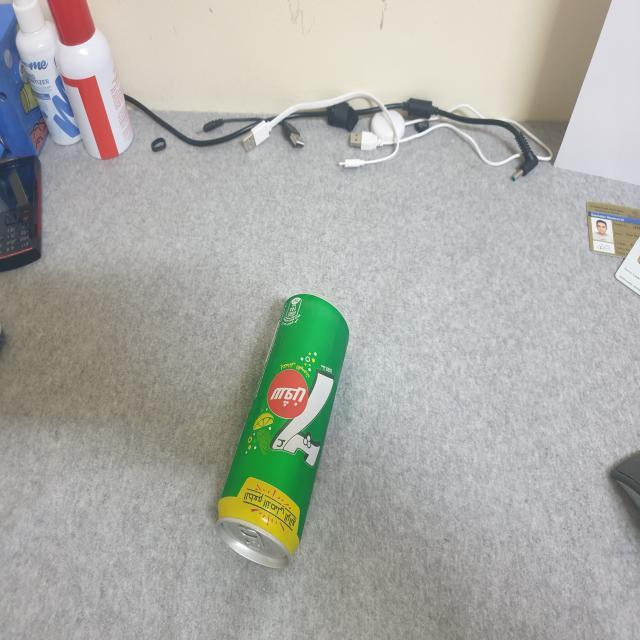can: (212, 282, 354, 573)
